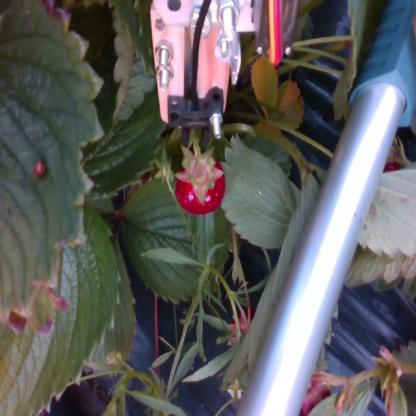ripe: (178, 156, 224, 212)
